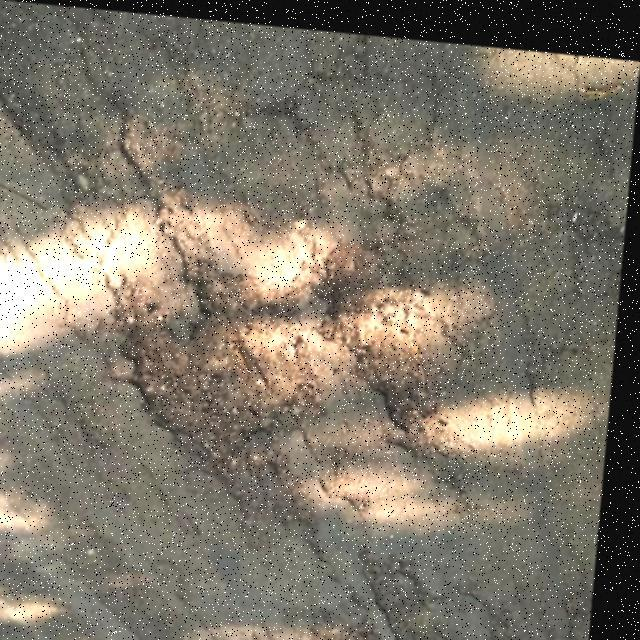pothole: (116, 204, 478, 498)
